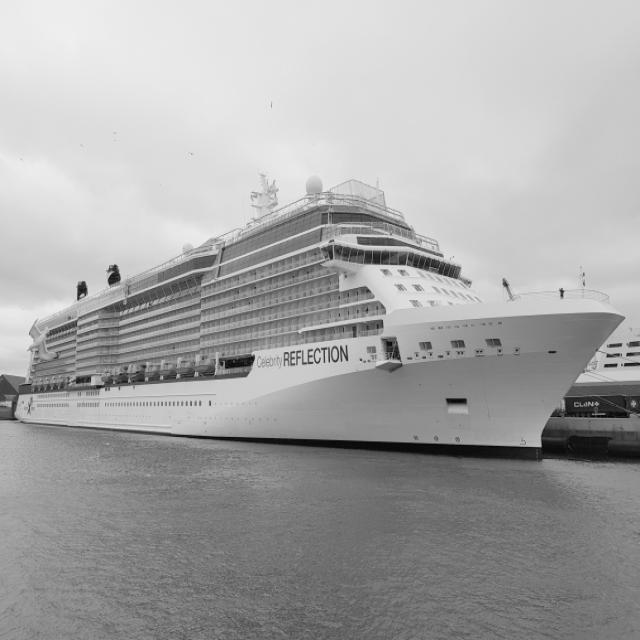cruises: (12, 168, 630, 471)
